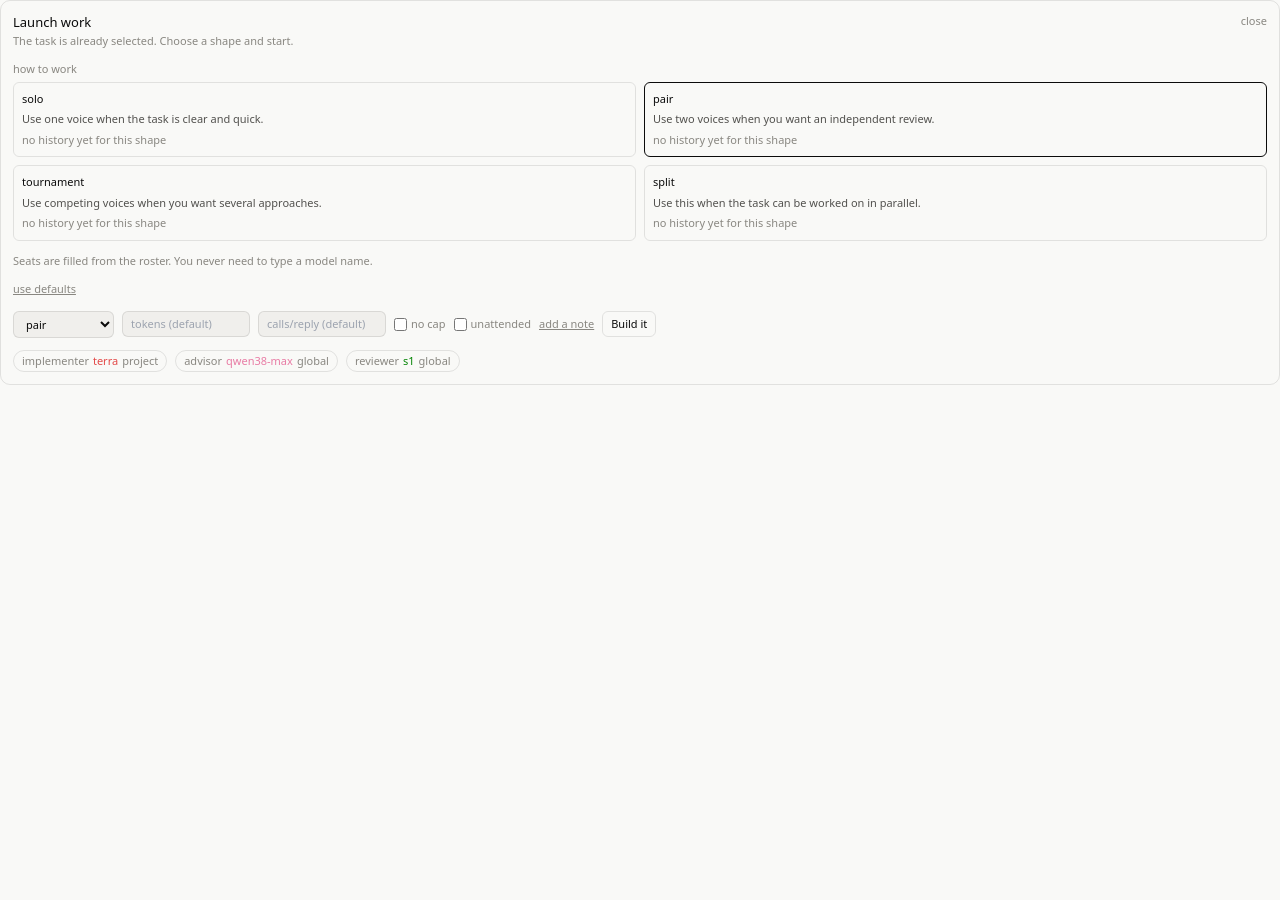
Test: participant modes project the implementer line-up, not every role › keeps the participant provenance after the mode changes from pair to tournament
The image size is (1280, 900).
Select "tournament" in the dropdown with test id "run-mode" at (64, 324), box [13,310,114,338]
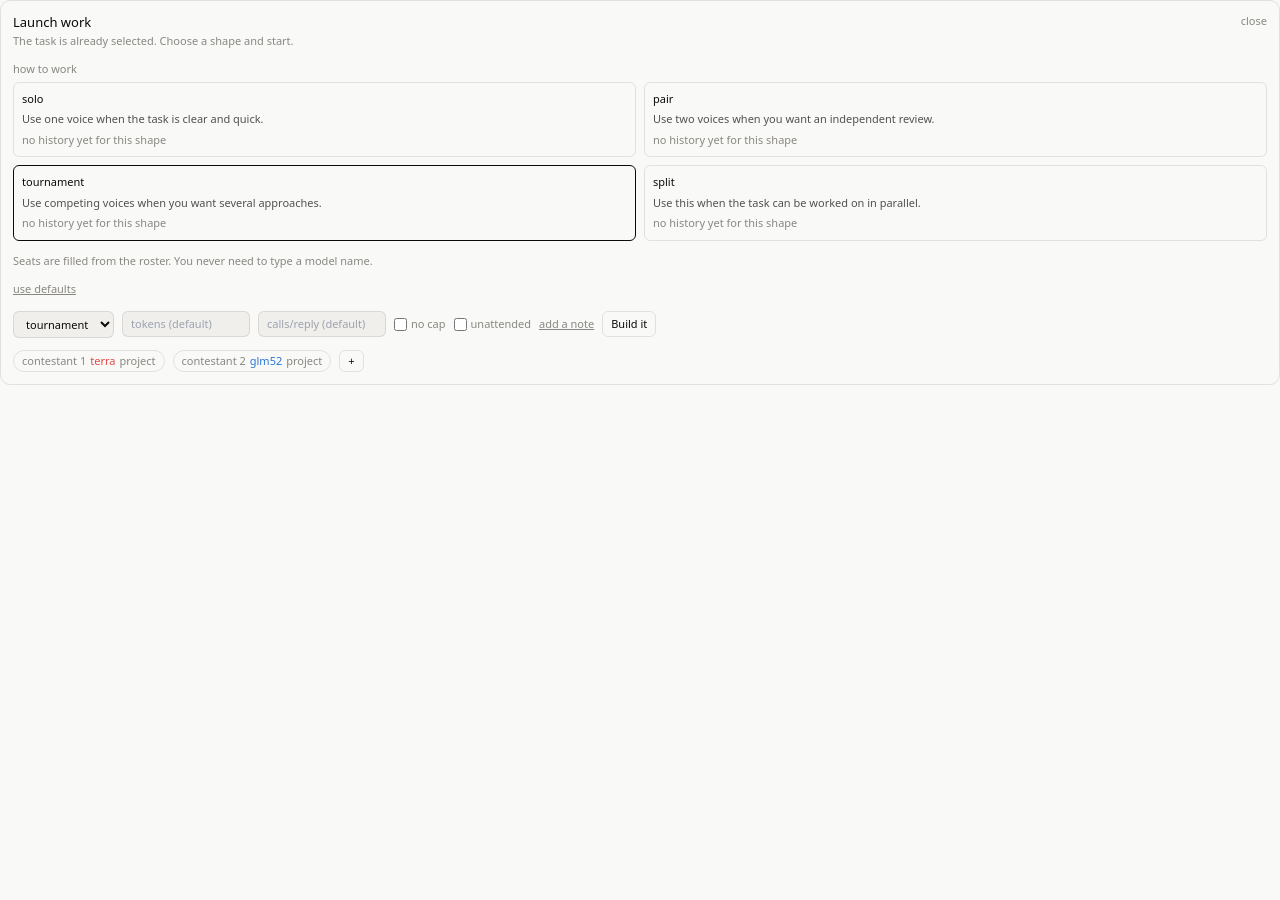
Expected: the number of buttons with test id "seat-chip" is 2, [13,350,164,372]; [172,350,331,372]
Expected: the button with test id "seat-chip" shows "project", [172,350,331,372]
